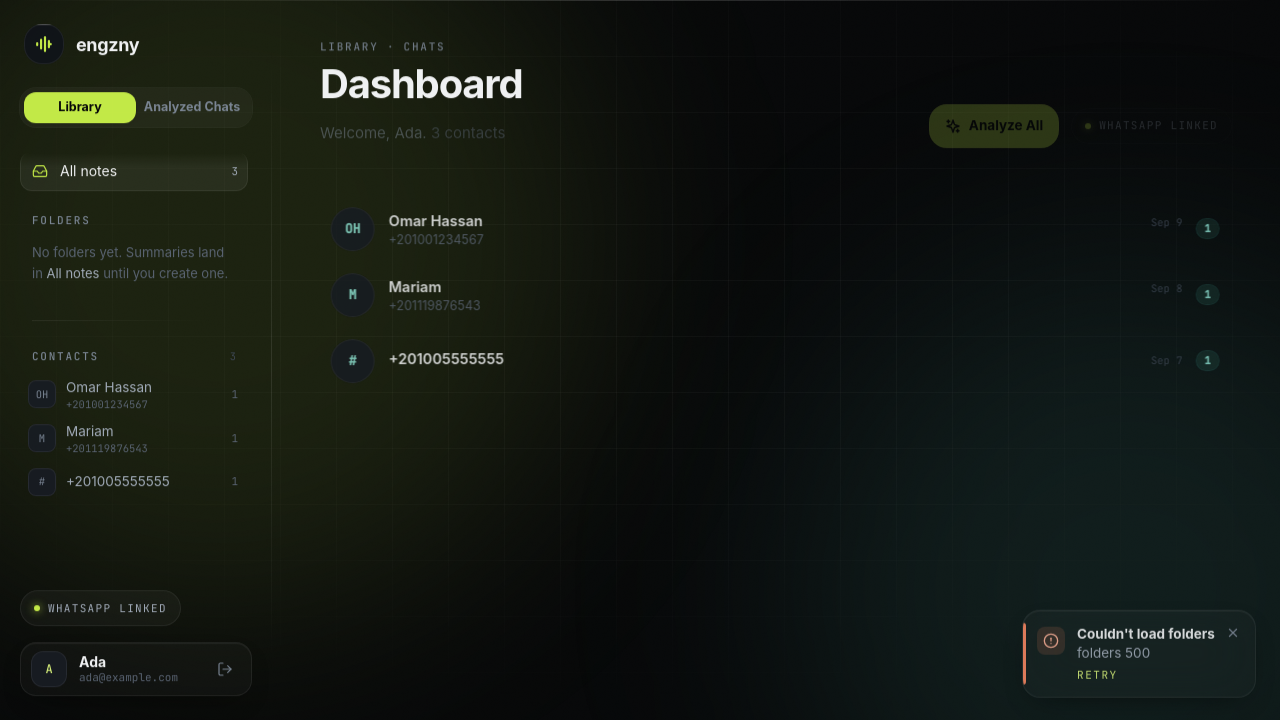
Test case: Dashboard › raises a toast with a retry action when folders fail to load, never alert()
The width and height of the screenshot is (1280, 720).
Check: the text "Couldn't load folders" is shown, box top-left (1077, 624), bottom-right (1215, 643)
Click the button "Retry": (1097, 675) top-left (1077, 668), bottom-right (1118, 683)
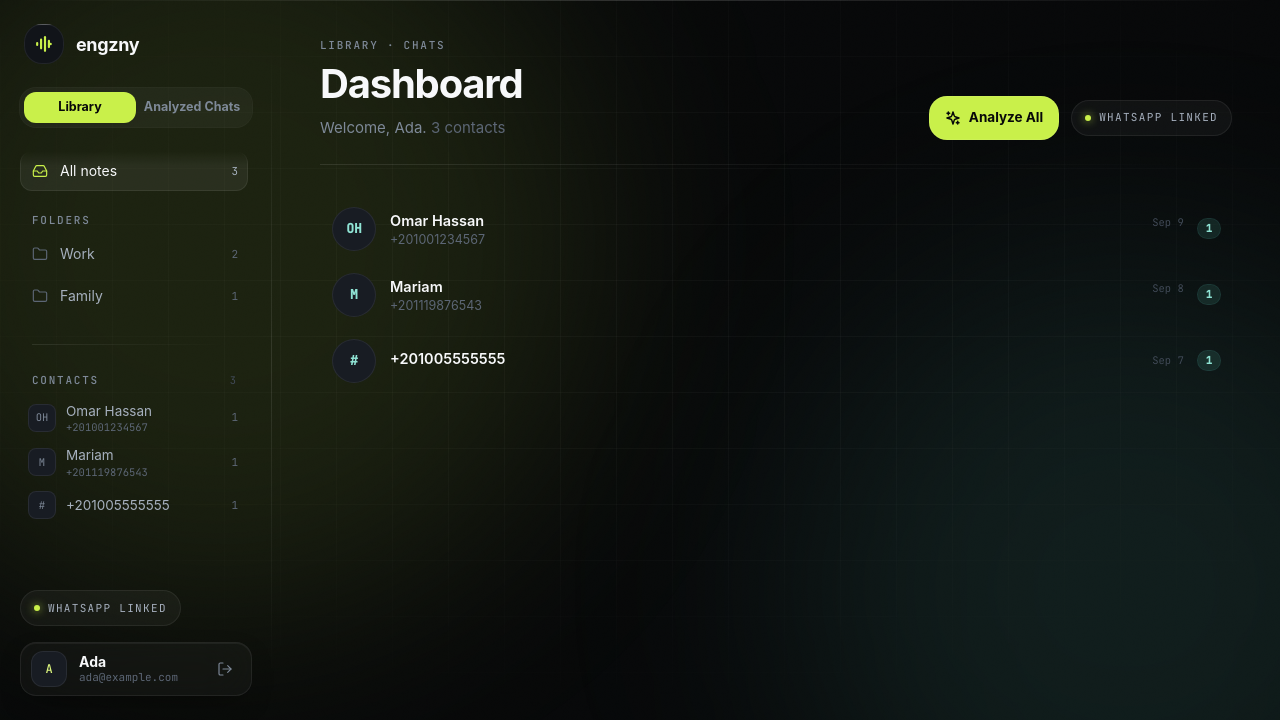
Check: the button "Work 2" is shown, box top-left (20, 234), bottom-right (248, 274)
